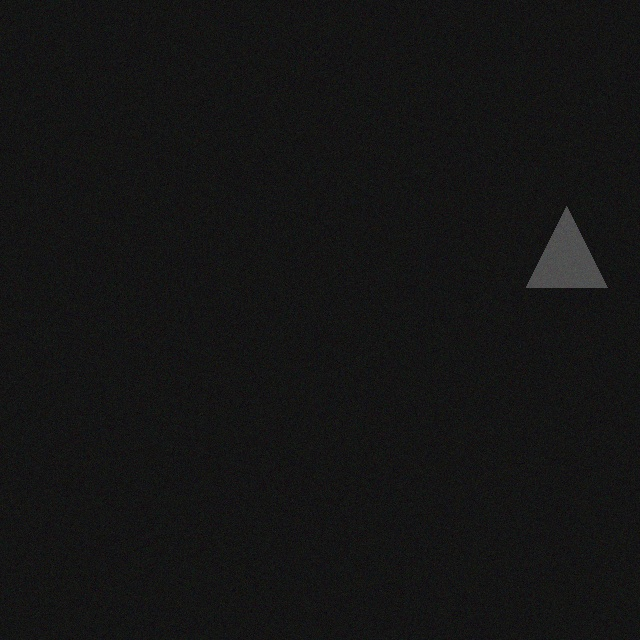triangle: (528, 219, 609, 300)
